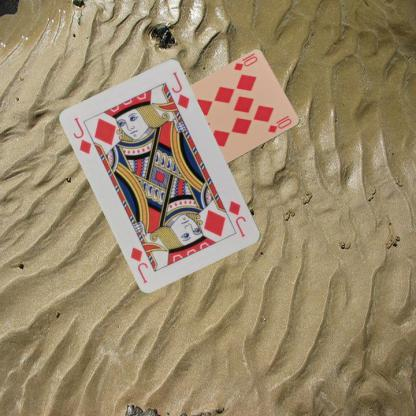10d: (231, 54, 258, 72)
Jd: (71, 115, 94, 156), (226, 198, 248, 239)
